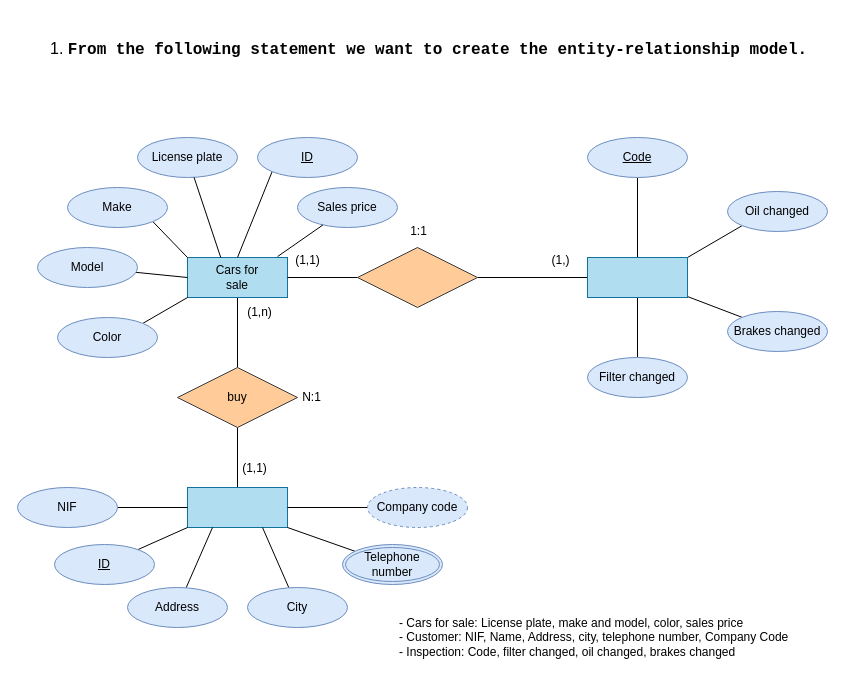
This 845x684 diagram has some shape labels left out. Each missing label, with the centre of its shape:
"Customer" goes at [237,507].
"have" goes at [417,277].
"Inspection" goes at [637,277].
